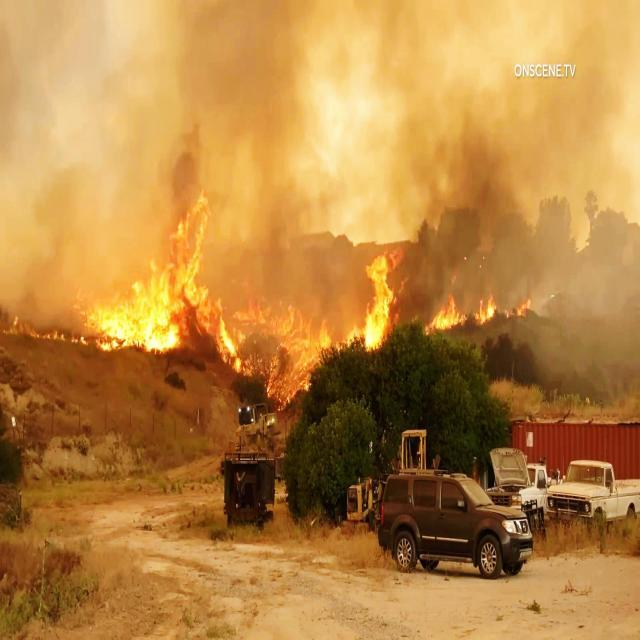Fire: (74, 197, 236, 375), (237, 286, 331, 409), (346, 248, 406, 366), (7, 316, 75, 348), (432, 278, 459, 342), (474, 282, 502, 328), (504, 299, 536, 316)
Smoke: (2, 6, 492, 221)
